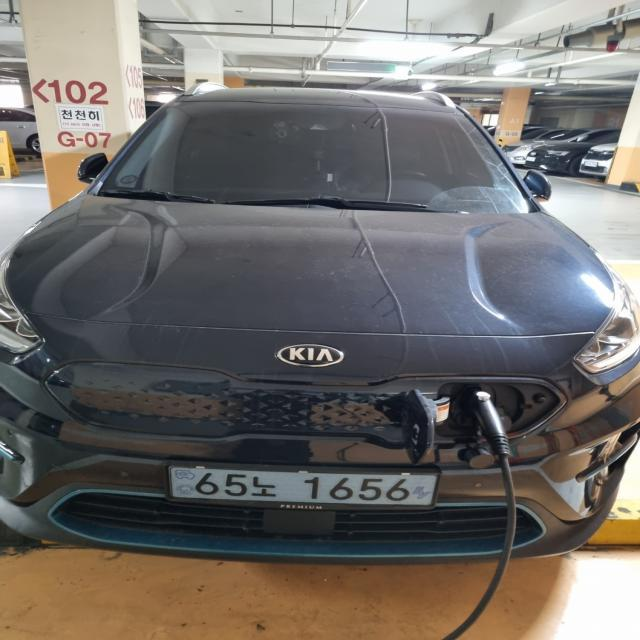car: (139, 448, 471, 525)
carev: (408, 465, 443, 516), (167, 459, 201, 510)
